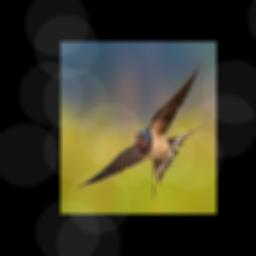Swallow: (76, 58, 205, 199)
